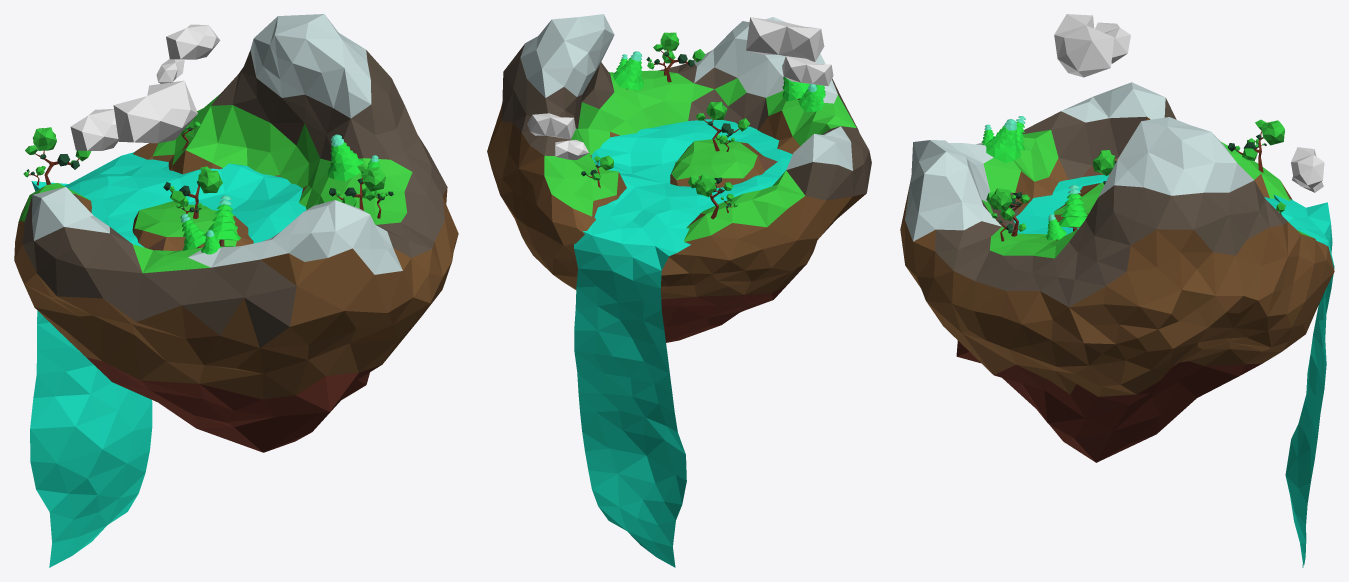
The model's file is FloatingIsland.glb.
The picture shows the model from 3 angles, left to right: view 1: azimuth 30°, elevation 25°; view 2: azimuth 150°, elevation 25°; view 3: azimuth 270°, elevation 25°; orthographic projection. The views are drawn at different scales.
Parts seen in each view (by area): view 1: Planet Maybe, Water, Icosphere, Tree.005, Plane.003, Tree, Tree.003, Plane, Plane.002; view 2: Planet Maybe, Water, Icosphere, Plane.003, Tree, Tree.003, Tree.005, Plane.002; view 3: Planet Maybe, Water, Icosphere, Tree.005, Plane, Plane.003, Tree.003.
Part boxes in pixels (<box>): Planet Maybe: <box>14,14,458,452</box>; Water: <box>30,152,306,567</box>; Icosphere: <box>70,24,220,150</box>; Tree.005: <box>25,127,91,184</box>; Plane.003: <box>327,134,363,181</box>; Tree: <box>163,166,222,218</box>; Tree.003: <box>329,163,385,210</box>; Plane: <box>203,195,240,246</box>; Plane.002: <box>180,214,205,250</box>; Planet Maybe: <box>487,14,871,342</box>; Water: <box>574,119,792,567</box>; Icosphere: <box>527,17,833,159</box>; Plane.003: <box>612,51,643,90</box>; Tree: <box>695,101,749,151</box>; Tree.003: <box>653,32,705,82</box>; Tree.005: <box>688,174,733,219</box>; Plane.002: <box>798,84,823,112</box>; Planet Maybe: <box>900,82,1334,462</box>; Water: <box>1013,175,1334,567</box>; Icosphere: <box>1054,14,1324,192</box>; Tree.005: <box>1228,119,1284,172</box>; Plane: <box>986,119,1020,163</box>; Plane.003: <box>1059,185,1087,231</box>; Tree.003: <box>986,188,1030,236</box>.
Size of the model in its own units: 18.86 by 25.55 by 18.84.
